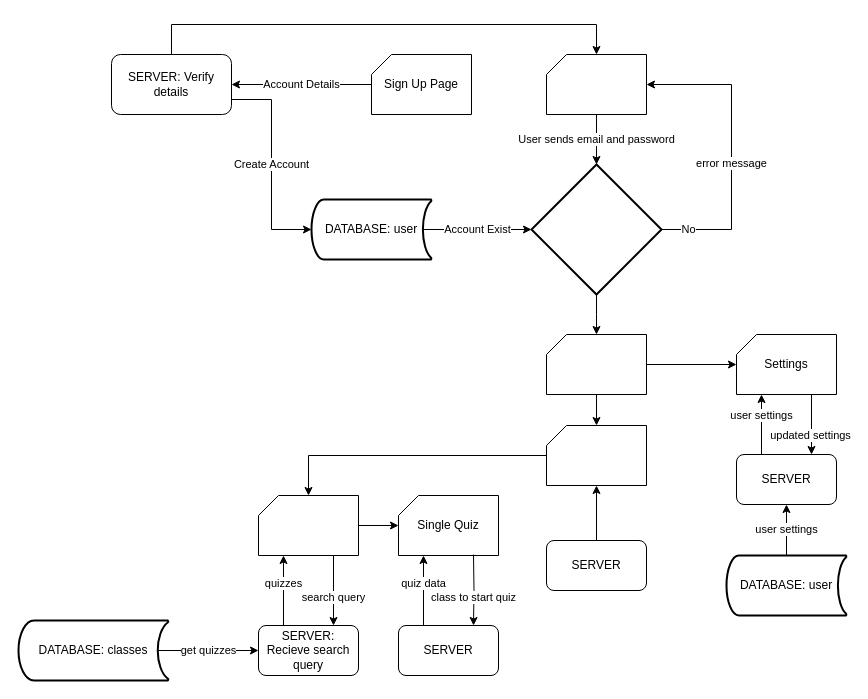
Some shapes in this 868 by 699 pixel diagram are drawn without their labels. Here are the shapes that lost their labels. From the top down, the centre of each, then its label:
the point at 596,84: Login Page
the point at 596,229: SERVER: Do user credentials exist?
the point at 596,364: Dashboard
the point at 596,455: Classes
the point at 308,525: Quiz Search
